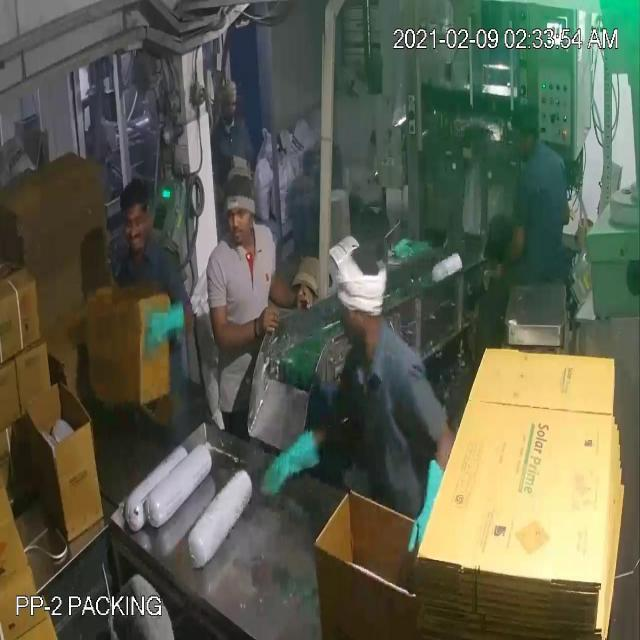No_Gloves: (48, 49, 292, 467)
